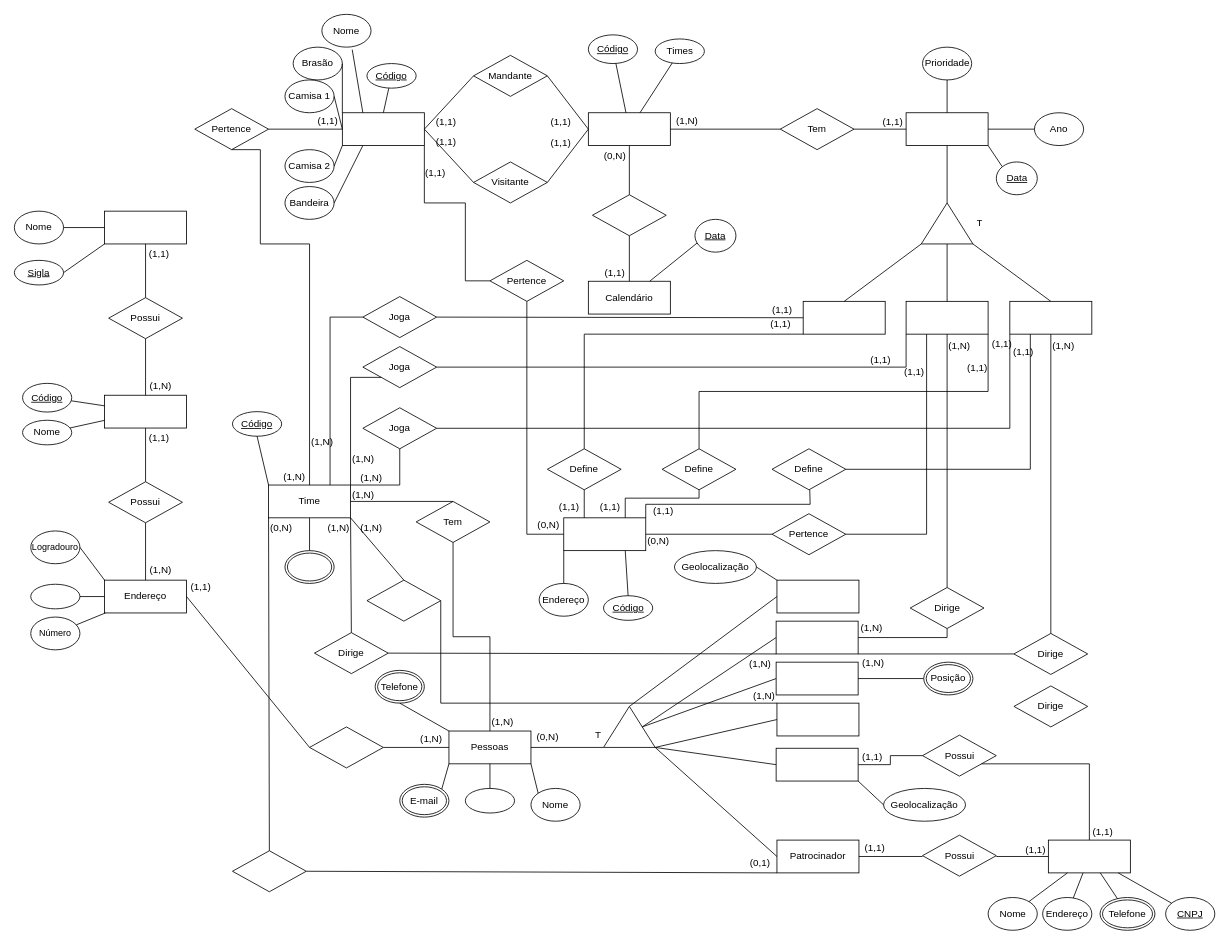
Some shapes in this 1229 by 945 pixel diagram are drawn without their labels. The centre of each missing label's shape, as x and y in pixels:
"Amistoso" goes at point 843,317.
"Associação" goes at point 383,129.
"Campos" goes at point 604,534.
"CEP" goes at point 55,596.
"Cidade" goes at point 145,411.
"Copa" goes at point 1050,317.
"CPF" goes at point 490,800.
"Dirigente" goes at point 816,637.
"Divisões" goes at point 309,566.
"Dono Comércio" goes at point 816,764.
"Empresa" goes at point 1089,856.
"Estado" goes at point 145,227.
"Evento" goes at point 946,129.
"Jogador" goes at point 816,678.
"Jogos" goes at point 629,129.
"Juiz" goes at point 817,596.
"Liga" goes at point 946,317.
"Patrocina" goes at point 269,871.
"Realiza" goes at point 629,215.
"Reside" goes at point 346,747.
"Torce" goes at point 403,600.
"Torcedor" goes at point 817,719.
